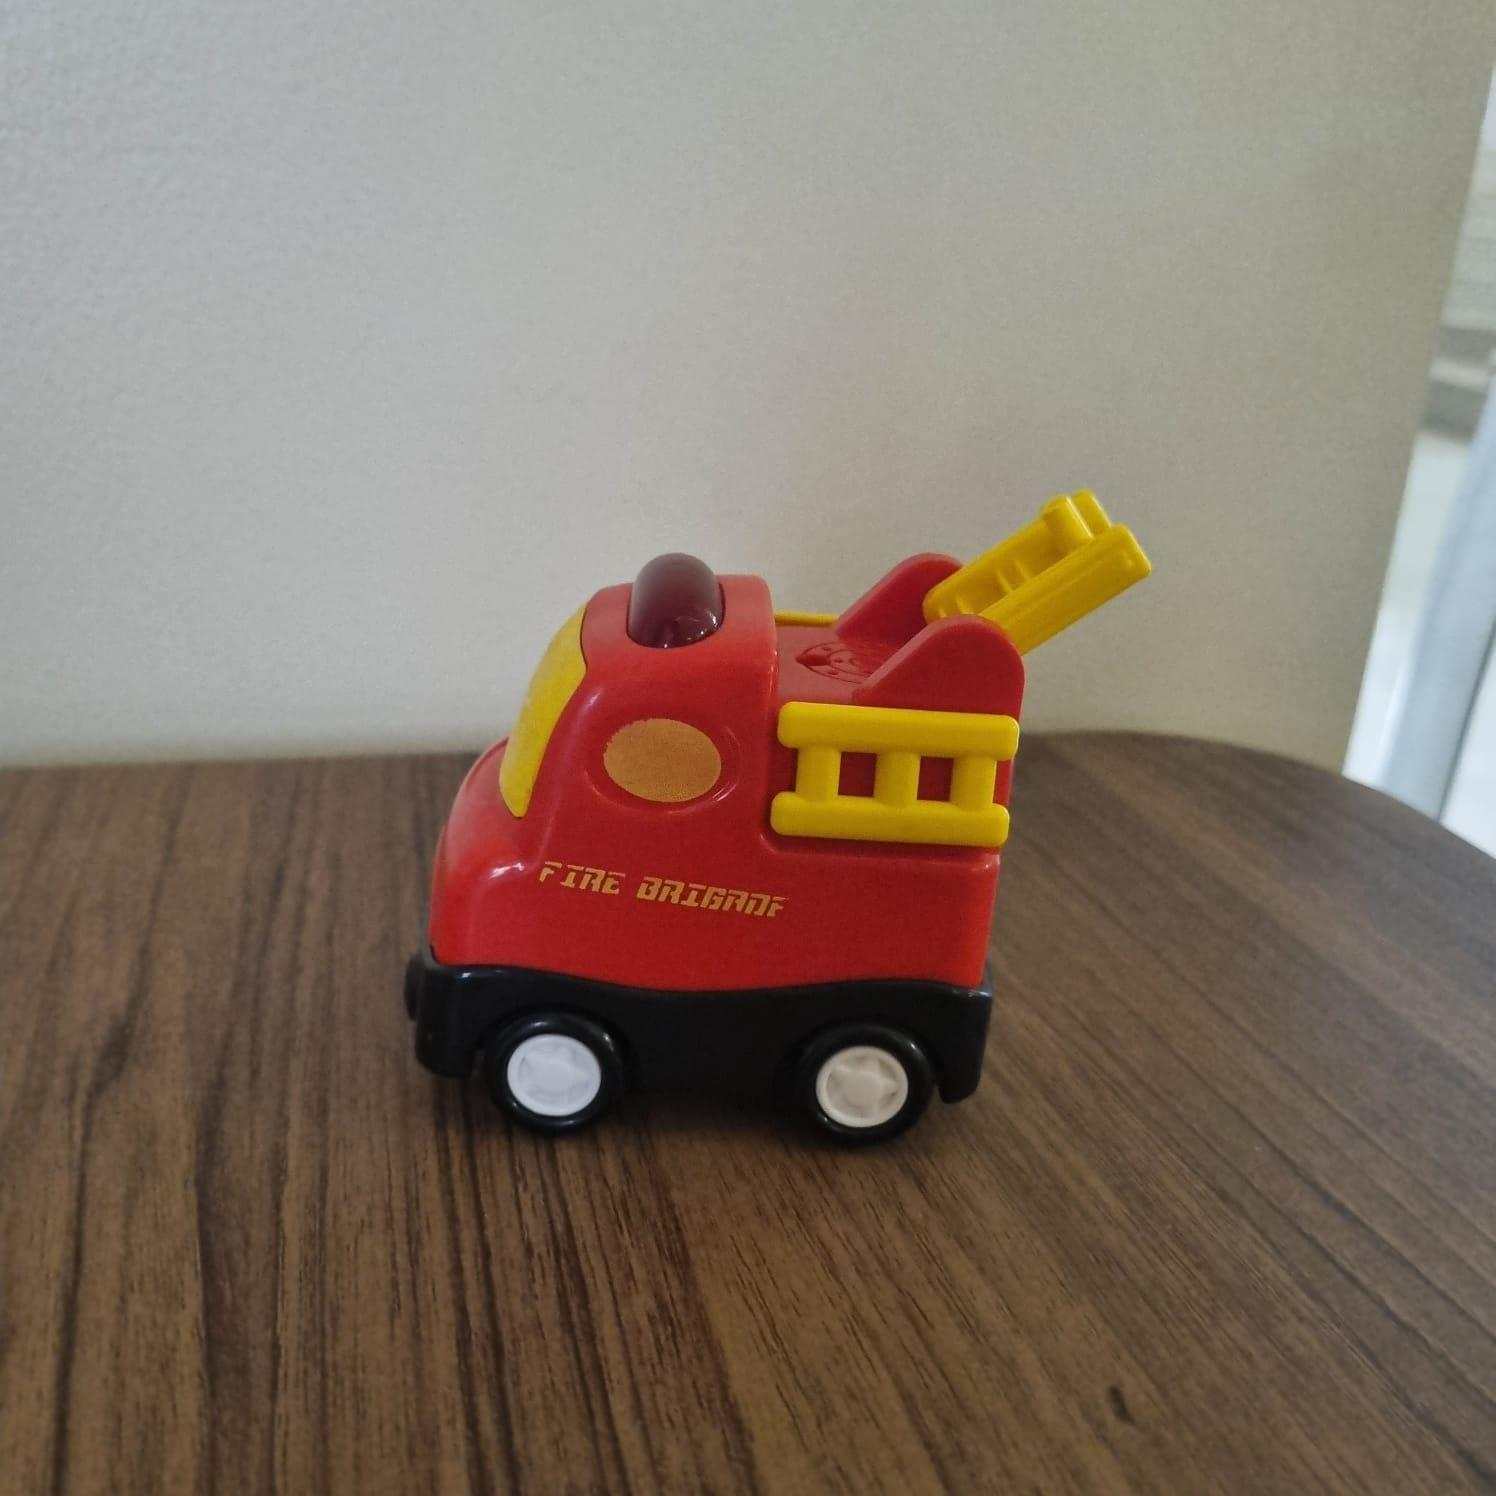firetruck_off: (411, 488, 1158, 1160)
